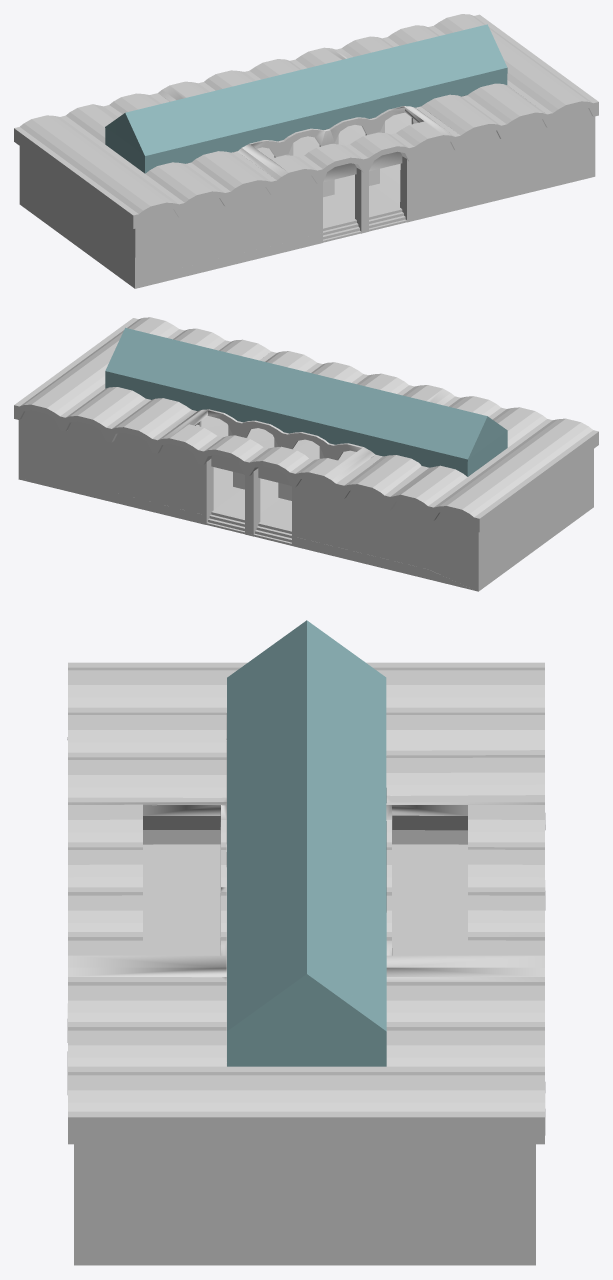
Rendered from MarchéCouvert.fbx.
The picture shows the model from 3 angles, top to bottom: view 1: azimuth 30°, elevation 25°; view 2: azimuth 150°, elevation 25°; view 3: azimuth 270°, elevation 25°; orthographic projection. The views are drawn at different scales.
Parts seen in each view (by area): view 1: Frot, Frot.004, Frot.006, Frot.003, Frot.005, Frot.007; view 2: Frot, Frot.004, Frot.006, Frot.003, Frot.005, Frot.007; view 3: Frot, Frot.006, Frot.004, Frot.003.
Part boxes in pixels (x1,y1,x2,y2): Frot: (14, 14, 598, 228); Frot.004: (19, 95, 595, 288); Frot.006: (105, 24, 507, 173); Frot.003: (232, 112, 411, 242); Frot.005: (323, 151, 402, 182); Frot.007: (187, 106, 419, 197); Frot: (14, 317, 598, 532); Frot.004: (18, 410, 593, 591); Frot.006: (105, 327, 507, 476); Frot.003: (201, 416, 356, 545); Frot.005: (211, 455, 289, 485); Frot.007: (200, 426, 338, 500); Frot: (67, 662, 545, 1144); Frot.006: (227, 620, 386, 1066); Frot.004: (74, 740, 535, 1265); Frot.003: (74, 844, 535, 1265).
Size of the model in its own units: 3328 by 832 by 1478.
